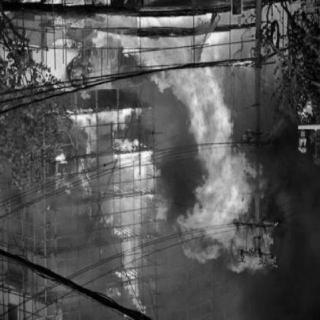Fire: (67, 109, 160, 313)
